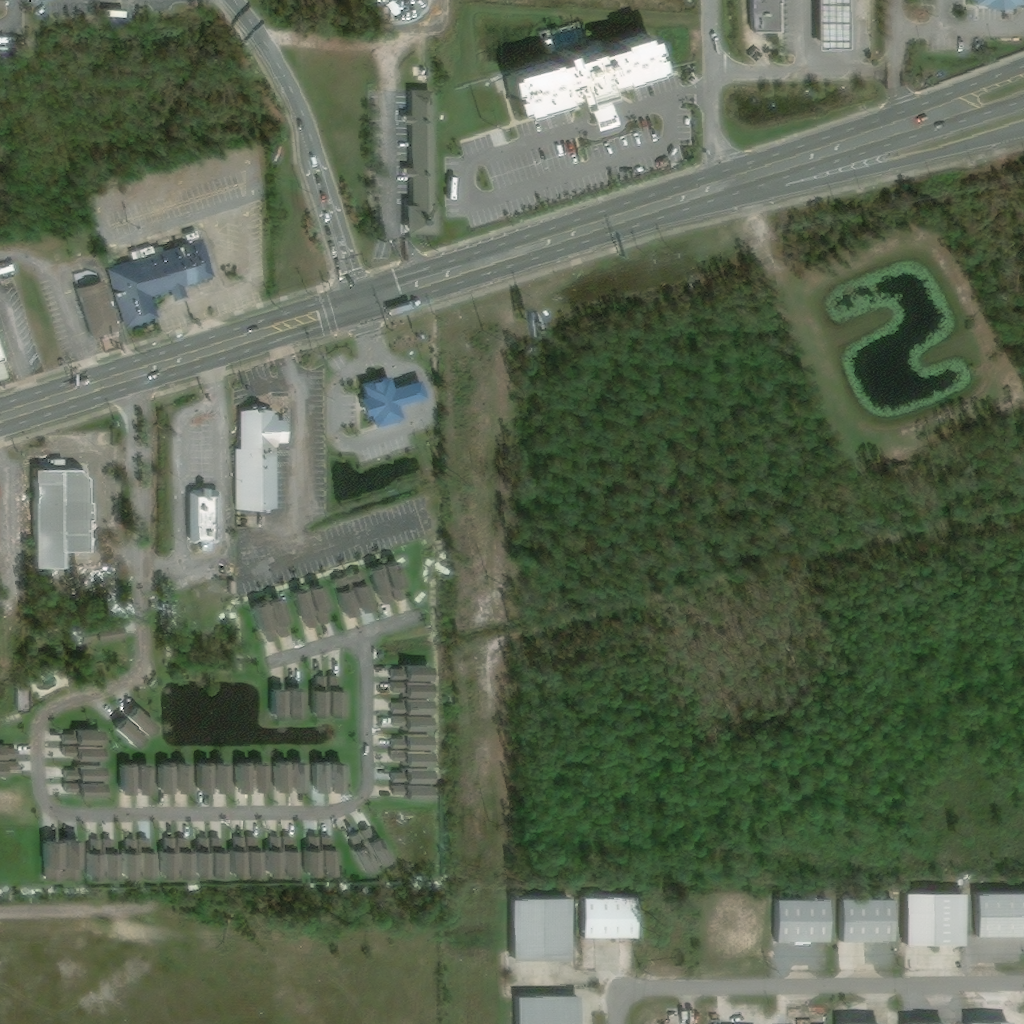minor_damage: (347, 831, 381, 876), (390, 698, 435, 715)
no_damage: (504, 27, 671, 131), (107, 235, 219, 333), (32, 466, 96, 570), (398, 90, 438, 238), (236, 407, 292, 511), (512, 895, 572, 959), (362, 375, 429, 428), (905, 891, 965, 947), (74, 278, 119, 341), (775, 900, 830, 946), (583, 898, 640, 939), (189, 482, 221, 555), (840, 898, 893, 942), (975, 893, 1023, 937), (517, 995, 580, 1023), (818, 0, 853, 49), (358, 825, 396, 867), (330, 575, 363, 619), (249, 602, 282, 644), (292, 588, 320, 633), (349, 571, 379, 613), (368, 564, 396, 607), (81, 620, 126, 645), (749, 0, 782, 32), (42, 837, 65, 882), (269, 598, 293, 639), (386, 561, 409, 603), (129, 703, 159, 734), (118, 719, 149, 749), (310, 584, 332, 626), (244, 833, 265, 877), (264, 834, 285, 877), (302, 835, 323, 877), (101, 838, 122, 880), (210, 836, 231, 878), (138, 839, 159, 880), (177, 835, 197, 878), (389, 733, 436, 751), (86, 838, 106, 880), (160, 837, 180, 879), (229, 835, 249, 877), (320, 833, 339, 877), (121, 839, 141, 880), (65, 839, 84, 882), (390, 681, 437, 698), (390, 664, 437, 681), (389, 784, 436, 800), (389, 768, 436, 784), (195, 837, 213, 878), (390, 750, 436, 766), (311, 761, 333, 794), (282, 835, 299, 877), (311, 676, 328, 717), (390, 715, 436, 730), (64, 766, 107, 782), (62, 728, 105, 744), (138, 760, 158, 794), (64, 783, 108, 798), (195, 762, 217, 792), (273, 761, 294, 792), (119, 761, 139, 793), (177, 761, 196, 793), (235, 761, 254, 792), (63, 747, 105, 761), (158, 763, 177, 793), (293, 761, 311, 792), (332, 761, 350, 792), (270, 688, 289, 716), (217, 761, 234, 792), (255, 762, 272, 793), (331, 676, 344, 715), (16, 683, 31, 711), (292, 689, 305, 718), (968, 0, 1014, 8), (0, 761, 19, 774), (0, 744, 18, 757), (74, 672, 90, 682), (0, 342, 7, 361)
